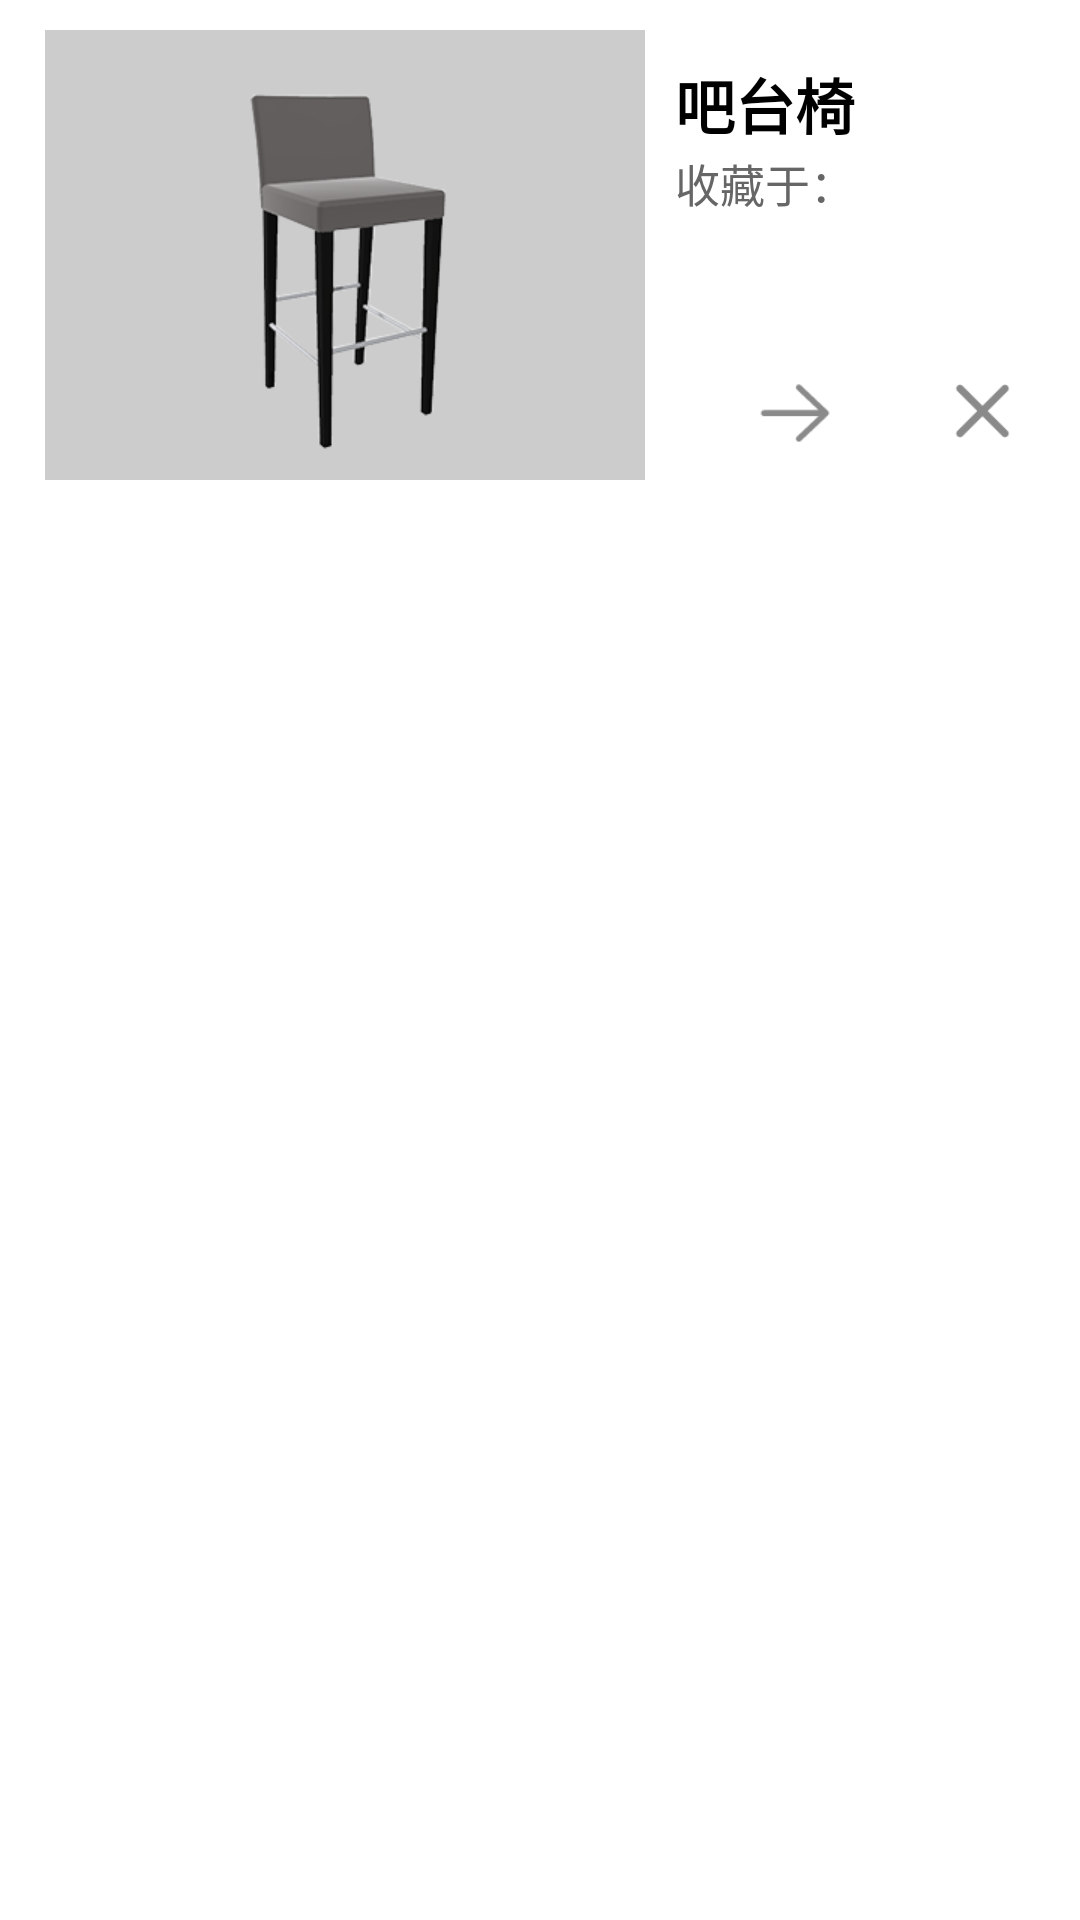

Icon bounding boxes for this 1080 x 1920 phone screenshot, format box=[x1, y1, x2, y2]:
delete: box=[956, 384, 1009, 438]
enter: box=[760, 384, 830, 442]
